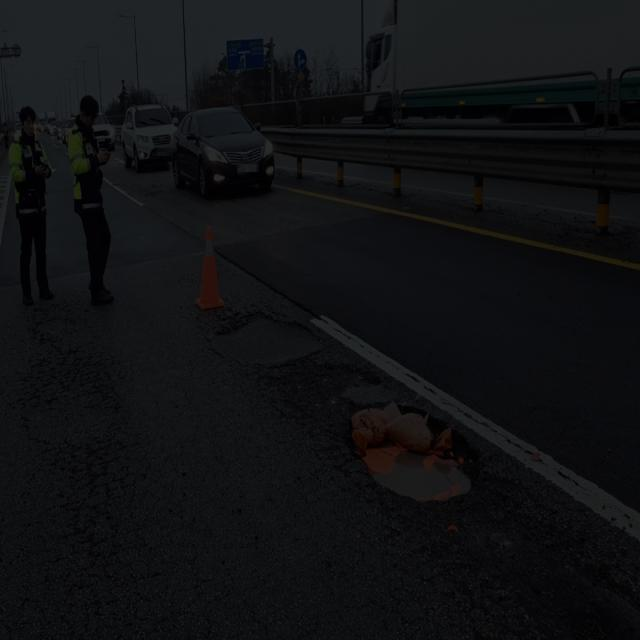pothole: (339, 409, 495, 532), (196, 301, 328, 375)
